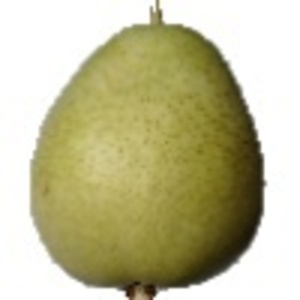pera: (28, 1, 267, 300)
